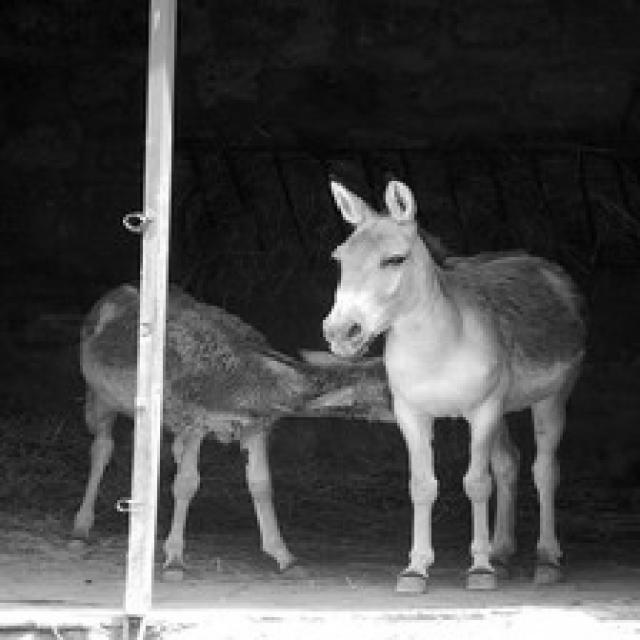Donkey: (66, 280, 520, 580), (320, 174, 589, 592)
